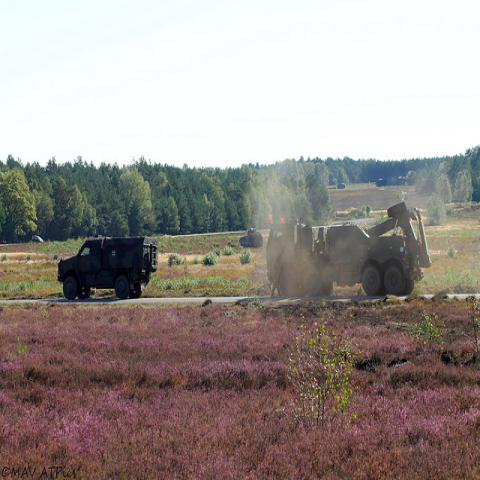car: (32, 235, 44, 243)
truck: (265, 198, 433, 301), (57, 237, 157, 300)
